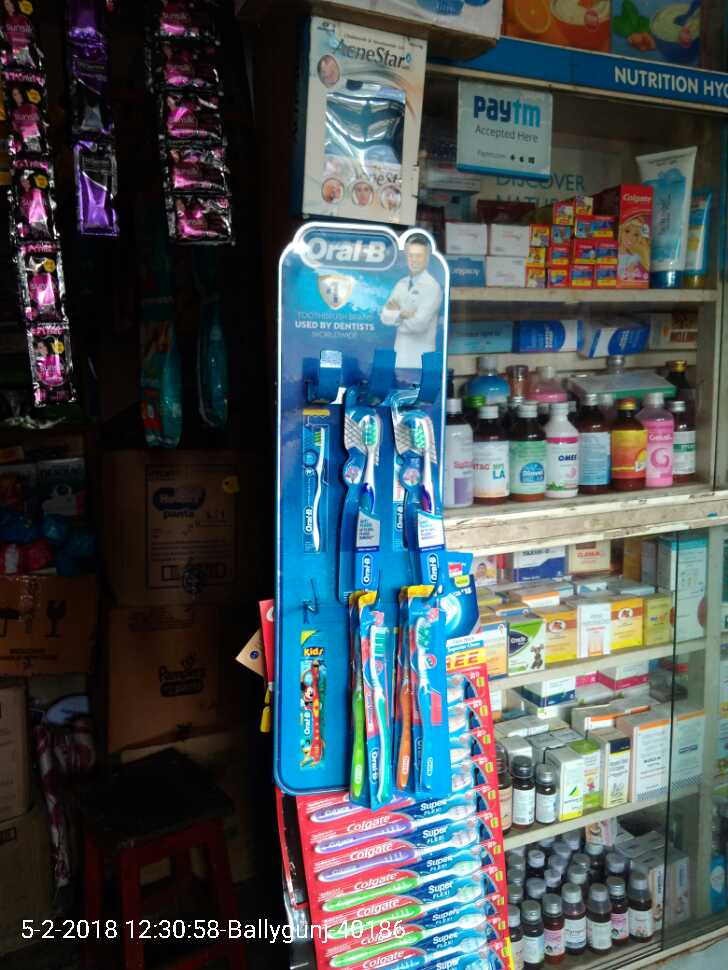oralb: (339, 400, 388, 605), (352, 600, 396, 810), (407, 405, 446, 587), (414, 604, 443, 793)
